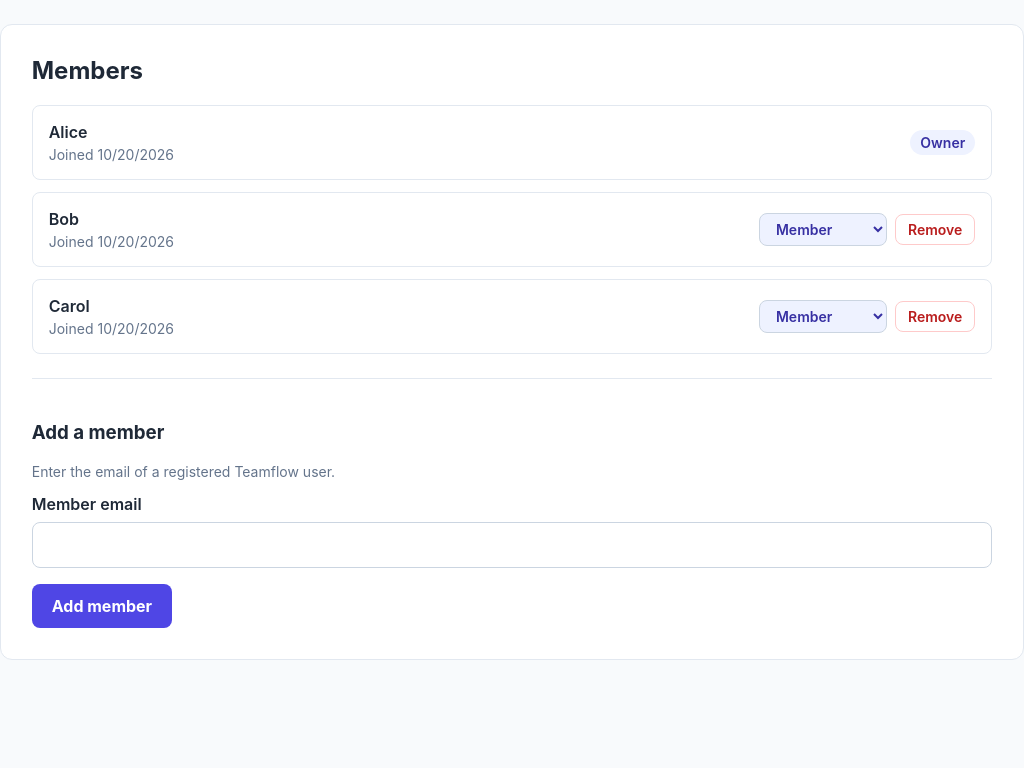
Scenario: WorkspaceMembersPanel role management › preserves the saved role after failure and allows retry
Select "Admin" in the dropdown named "Role for Bob" at (823, 229), box top-left (759, 213), bottom-right (887, 246)
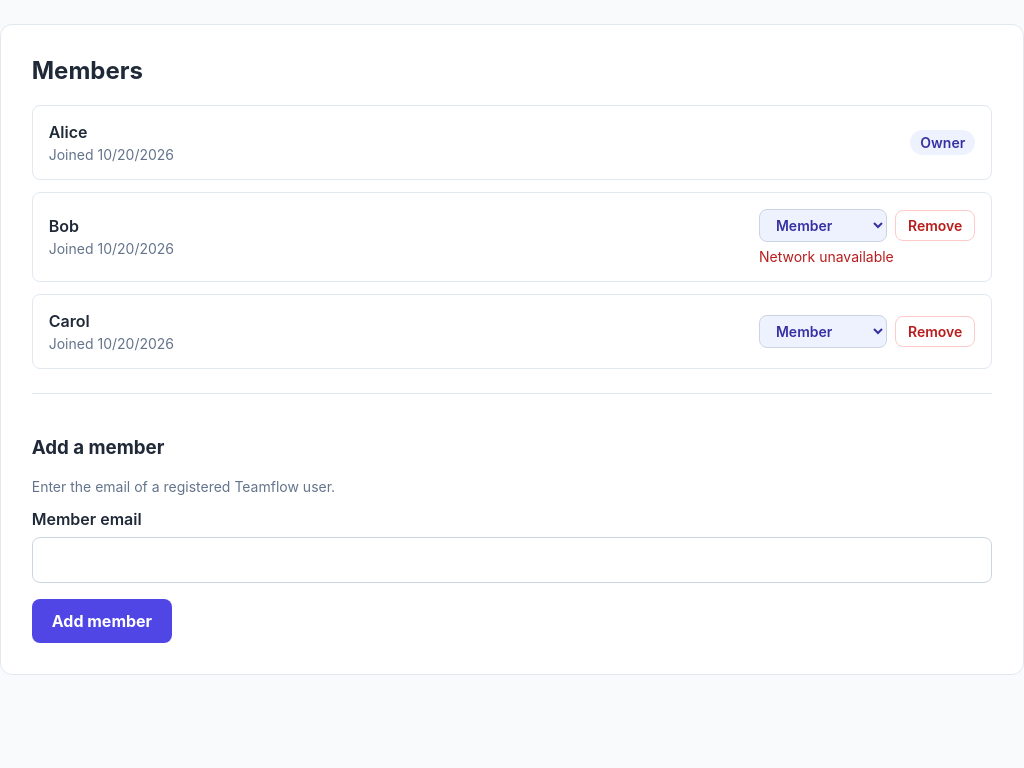
Expected: the message reads "Network unavailable", top-left (759, 248), bottom-right (894, 265)
Select "Admin" in the dropdown named "Role for Bob" at (823, 225), box top-left (759, 209), bottom-right (887, 242)
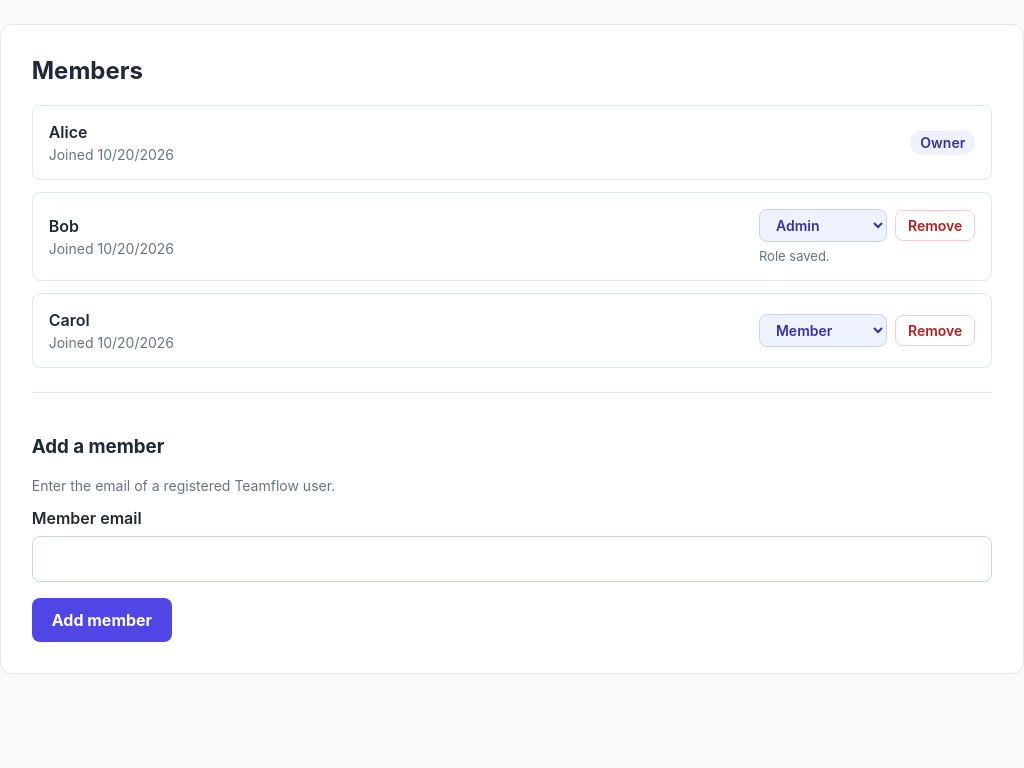
Expected: the message reads "Role saved.", top-left (759, 248), bottom-right (830, 264)
